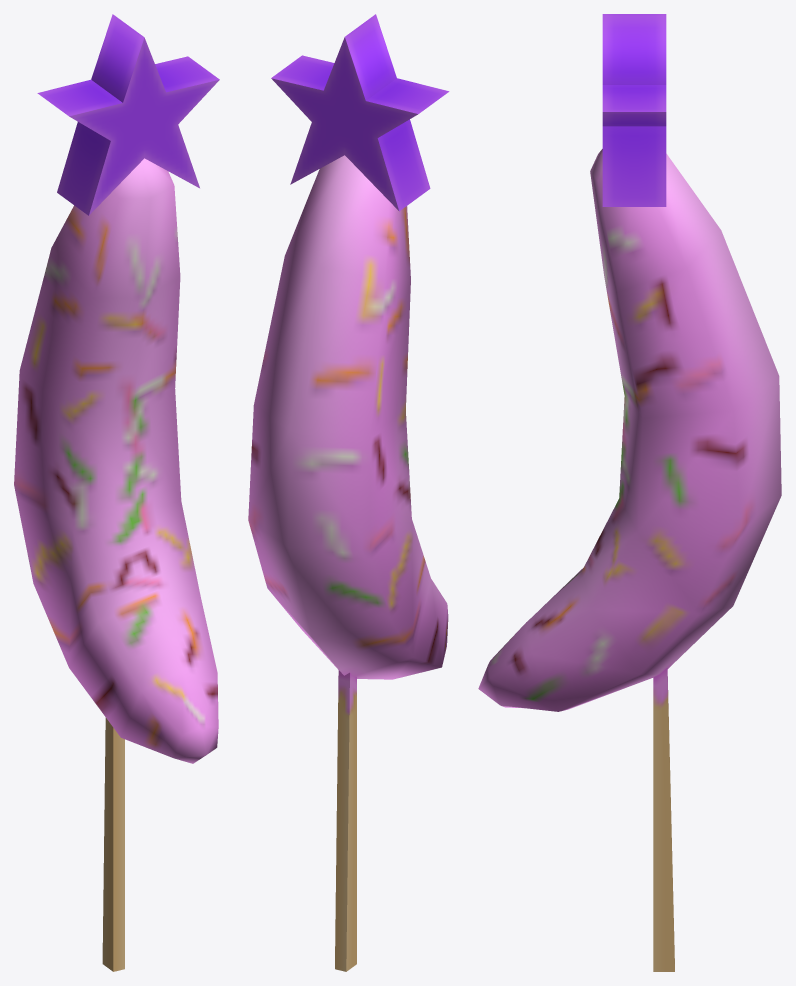
Rendered from jsf_ChocolateBanana_a04_c02.fbx.
The picture shows the model from 3 angles, left to right: view 1: azimuth 30°, elevation 25°; view 2: azimuth 150°, elevation 25°; view 3: azimuth 270°, elevation 25°; orthographic projection. The views are drawn at different scales.
Parts seen in each view (by area): view 1: jsf_ChocolateBanana_a04_c02; view 2: jsf_ChocolateBanana_a04_c02; view 3: jsf_ChocolateBanana_a04_c02.
Boxes of the visible parts, x1,y1,x2,y2 form: jsf_ChocolateBanana_a04_c02: (14, 14, 219, 971); jsf_ChocolateBanana_a04_c02: (248, 14, 449, 971); jsf_ChocolateBanana_a04_c02: (478, 14, 781, 971).
Bounding box in the file's own units: 4.51 × 27.18 × 7.83.
